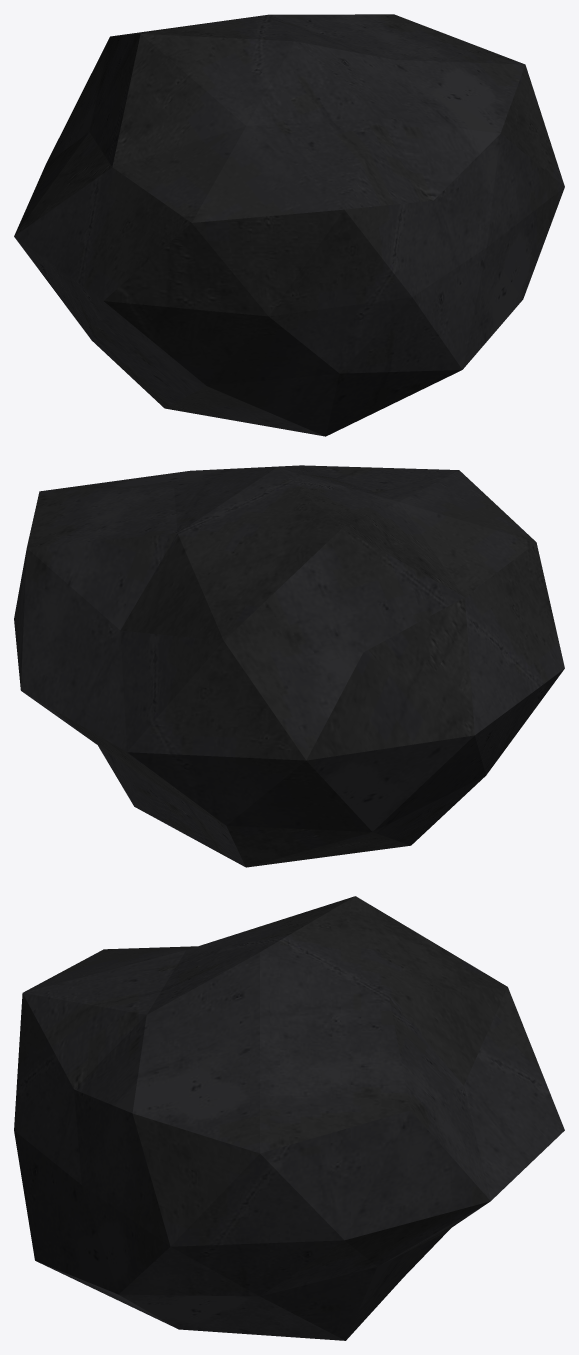
File: coal.glb
3 renders of one model, top to bottom at view 1: azimuth 30°, elevation 25°; view 2: azimuth 150°, elevation 25°; view 3: azimuth 270°, elevation 25°, orthographic. The views are drawn at different scales.
Parts seen in each view (by area): view 1: Coal; view 2: Coal; view 3: Coal.
Boxes of the visible parts, x1,y1,x2,y2 form: Coal: (14,14,564,436); Coal: (14,465,564,867); Coal: (14,896,564,1340).
Bounding box in the file's own units: 0.1456 × 0.1001 × 0.1419.
Materials: 1 (1 with a texture image).
